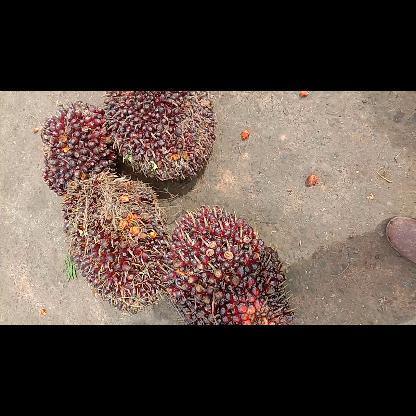Kurang masak: (157, 206, 296, 324), (61, 170, 169, 312), (102, 90, 218, 180), (41, 102, 119, 194)
